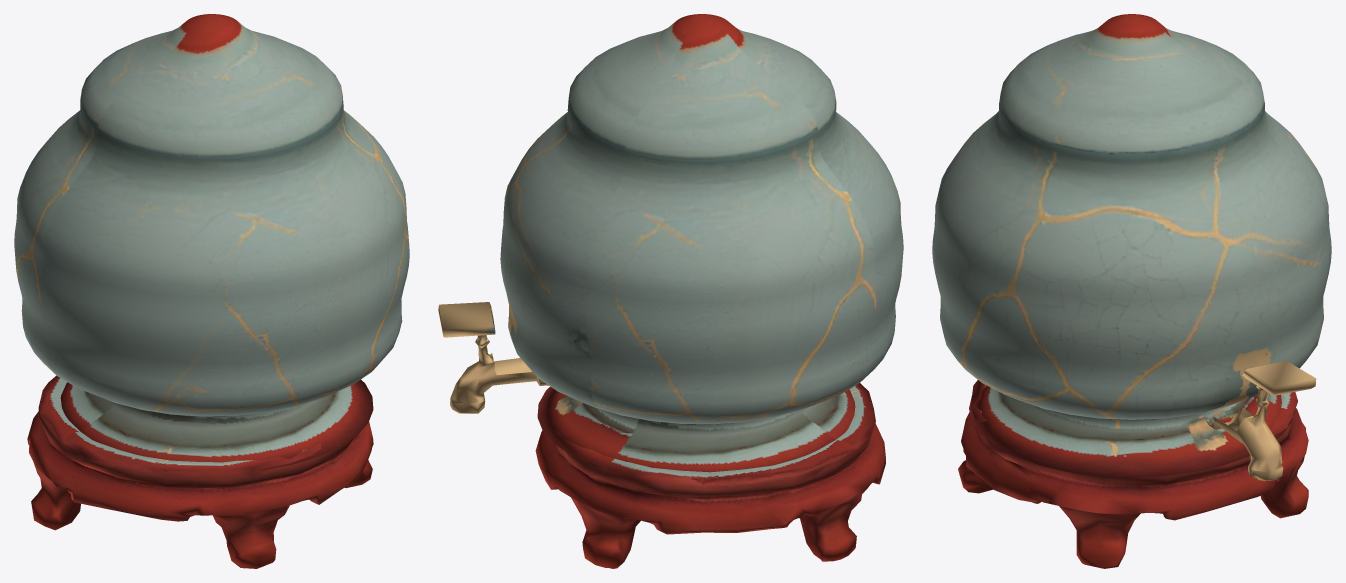
Rendered from bigkeg_celadon_tripo.glb.
3 renders of one model, left to right at view 1: azimuth 30°, elevation 25°; view 2: azimuth 150°, elevation 25°; view 3: azimuth 270°, elevation 25°, orthographic.
Visible parts, largest first — view 1: bigkeg_celadon; view 2: bigkeg_celadon; view 3: bigkeg_celadon.
Part boxes in pixels (x1,y1,x2,y2): bigkeg_celadon: [14, 14, 409, 568]; bigkeg_celadon: [438, 14, 903, 568]; bigkeg_celadon: [932, 14, 1331, 568].
Size of the model in its own units: 0.3101 by 0.4029 by 0.2959.
Materials: 1 (1 with a texture image).
